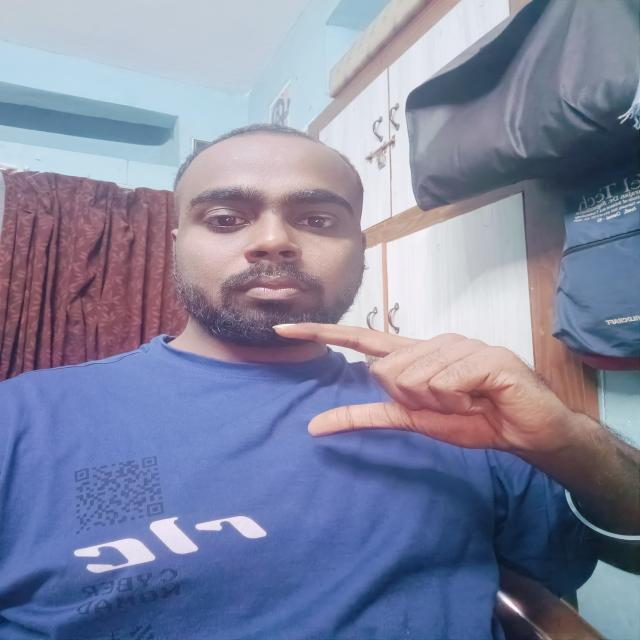No: (226, 291, 586, 486)
